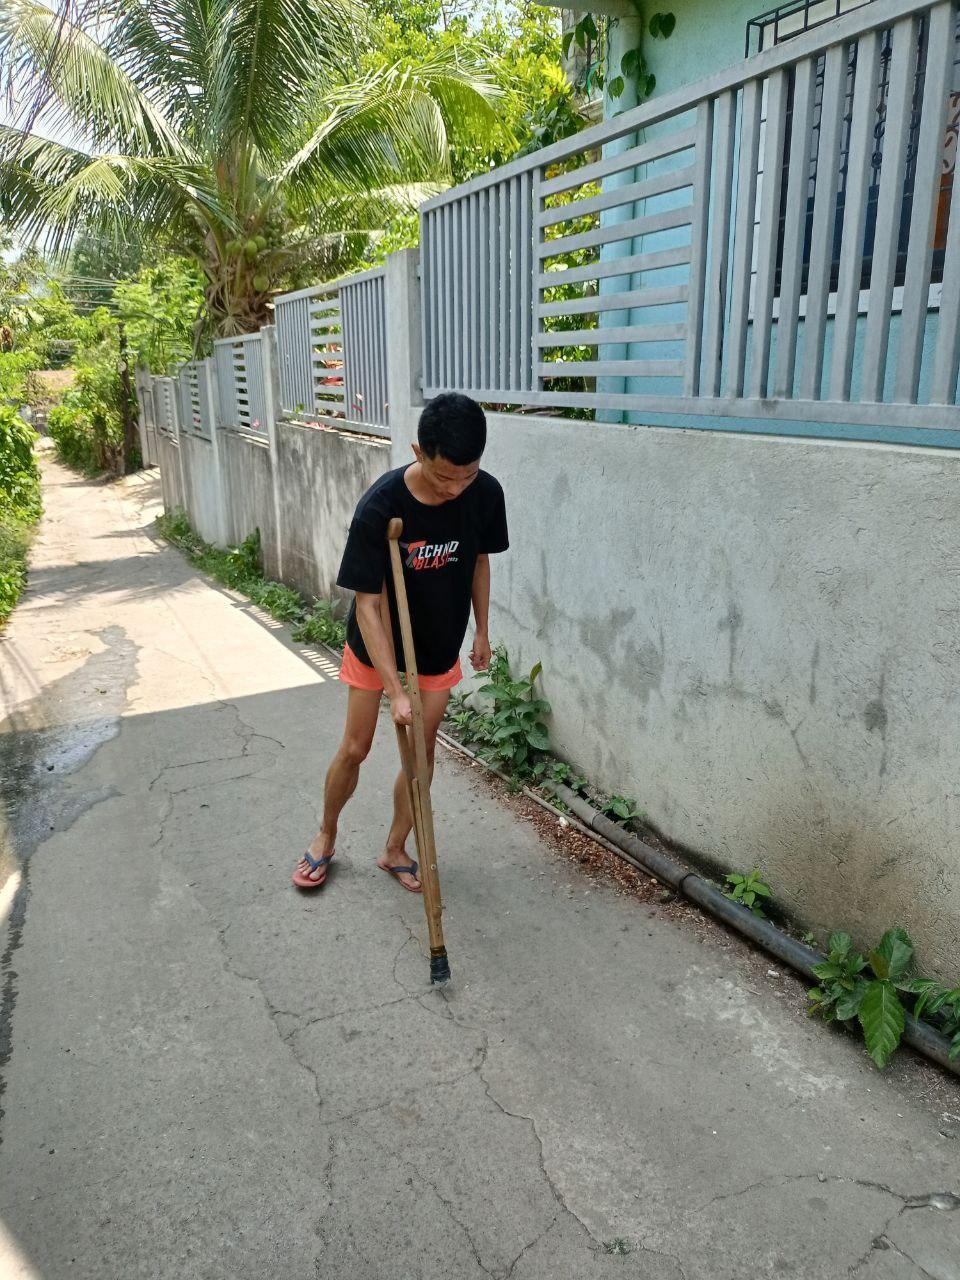crutches: (293, 396, 511, 986)
